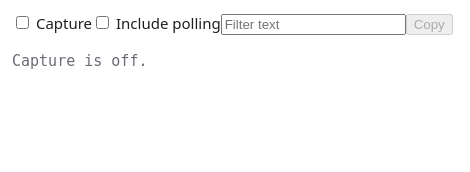
it: RpcConsole › shows an alert when the capture toggle fails
Click the checkbox labelled "Capture": (22, 22) [16, 16, 29, 29]
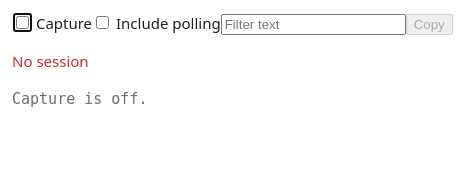
expect the message reads "No session": met, box [12, 51, 89, 71]
